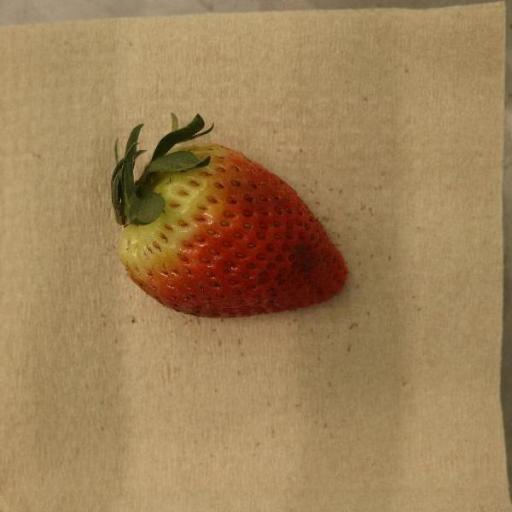Strawberry: (111, 115, 349, 319)
